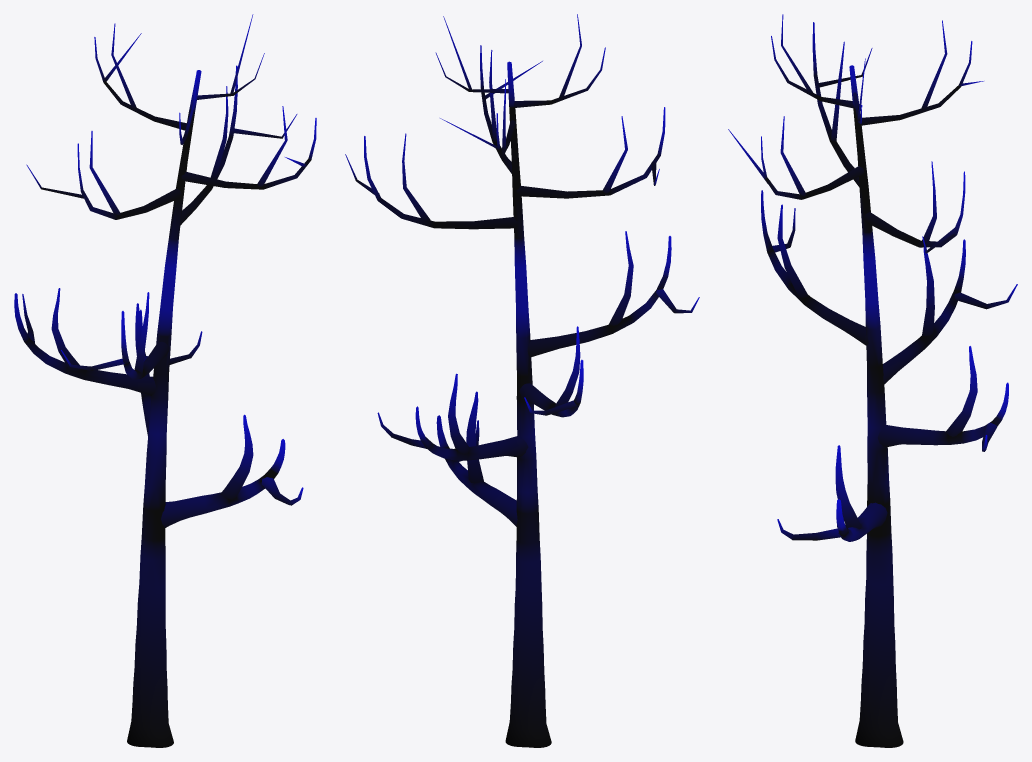
Rendered from Birch Trunk 002.fbx.
The picture shows the model from 3 angles, left to right: view 1: azimuth 30°, elevation 25°; view 2: azimuth 150°, elevation 25°; view 3: azimuth 270°, elevation 25°; orthographic projection. The views are drawn at different scales.
Visible parts, largest first — view 1: Birch_Trunk_002_LOD0; view 2: Birch_Trunk_002_LOD0; view 3: Birch_Trunk_002_LOD0.
Boxes of the visible parts, x1,y1,x2,y2 form: Birch_Trunk_002_LOD0: (14, 14, 316, 747); Birch_Trunk_002_LOD0: (345, 14, 699, 747); Birch_Trunk_002_LOD0: (728, 14, 1017, 747).
Size of what is drawn, in the model's own units: 465 by 1052 by 379.
